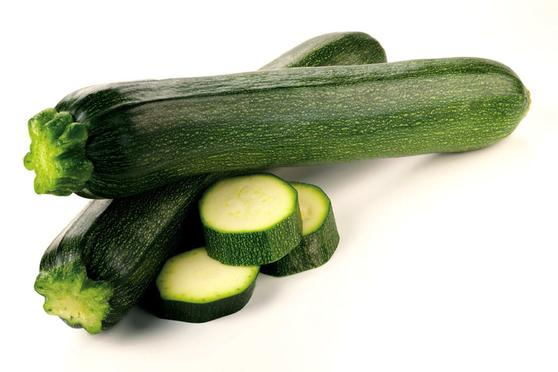zucchini: (39, 49, 539, 189)
